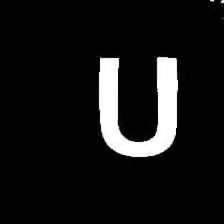LTR_U: (86, 45, 182, 160)
